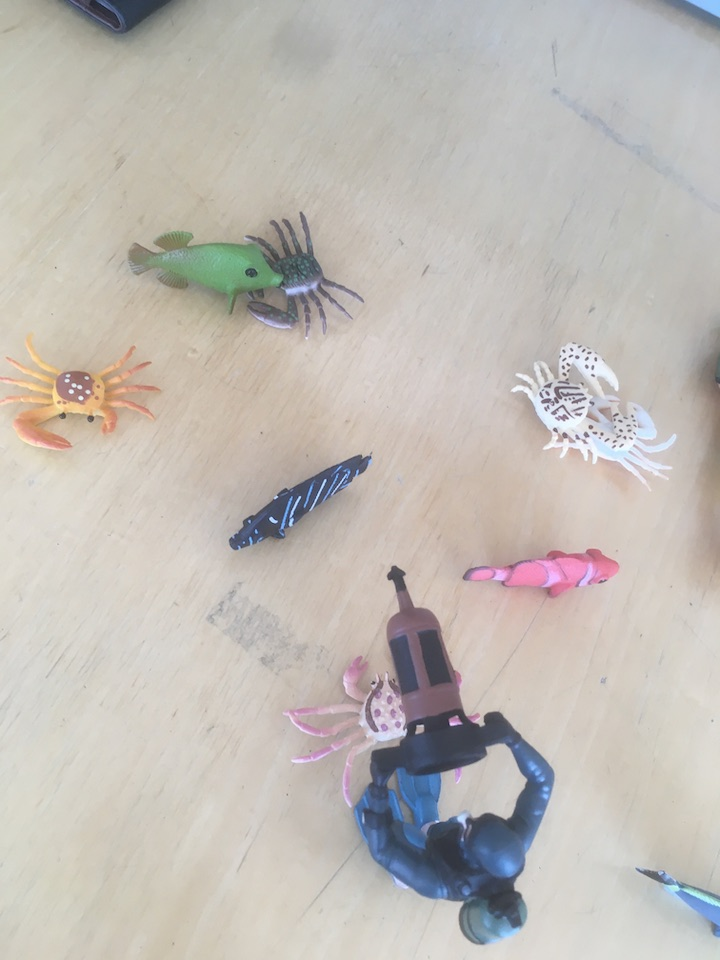crab: (282, 655, 483, 808), (1, 329, 165, 457), (226, 207, 367, 340), (510, 338, 637, 475), (559, 379, 683, 501)
diver: (352, 559, 558, 949)
fish: (222, 438, 385, 557), (453, 542, 631, 601), (630, 858, 720, 939)
